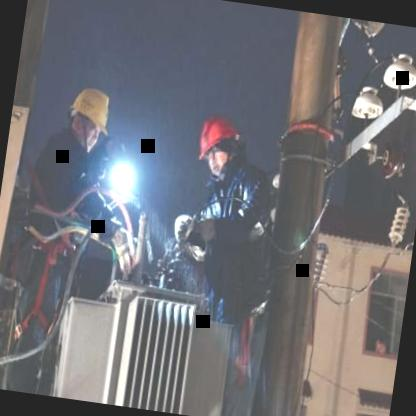helmet: (59, 80, 117, 158), (188, 114, 248, 180)
